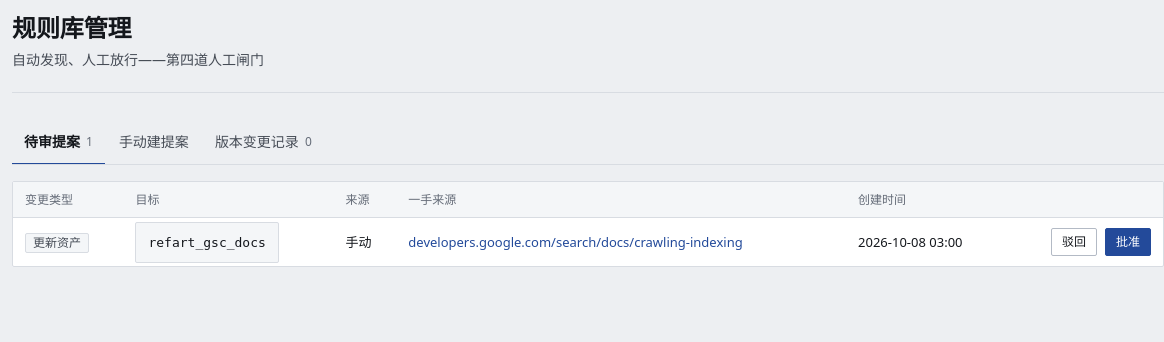
Test: RulesAdminClient（规则库：待审提案 / 手动建提案 / 版本记录） › 批准失败时提示，不静默刷新
Click the button "批准".
click(1128, 242)  # box [1105,228,1151,256]
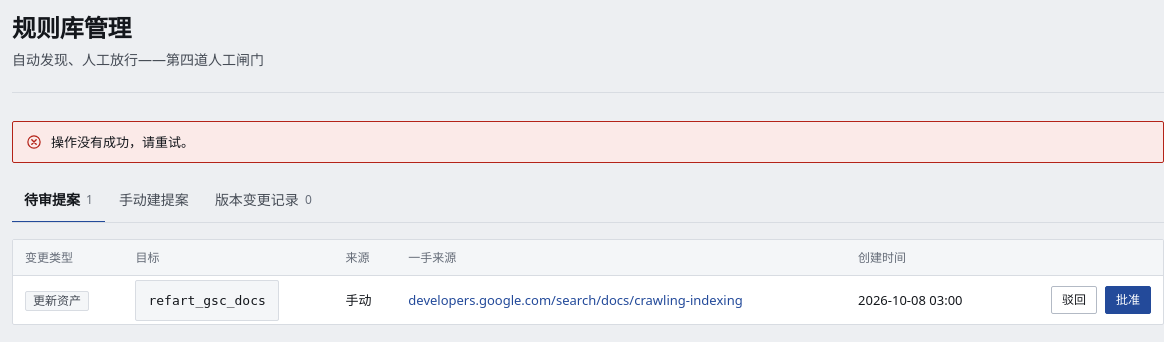
Check: the message reads "操作没有成功，请重试。", box [51,133,194,151]
